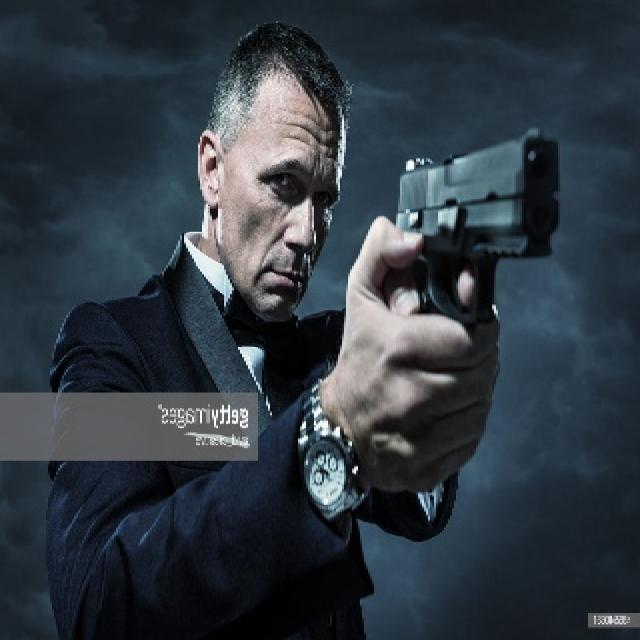handgun: (391, 125, 569, 325)
